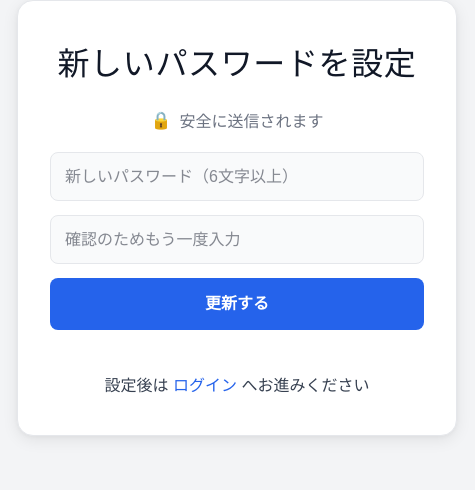
ResetPasswordForm › 以前と同じパスワードだと、日本語の案内を出す（失敗の経路）
The image size is (475, 490).
Check: the button "更新する" is enabled, box 50,278 -> 424,330
Type "abcdef" into the password field labelled "新しいパスワード".
click(237, 176); type("abcdef")  # box 50,152 -> 424,201
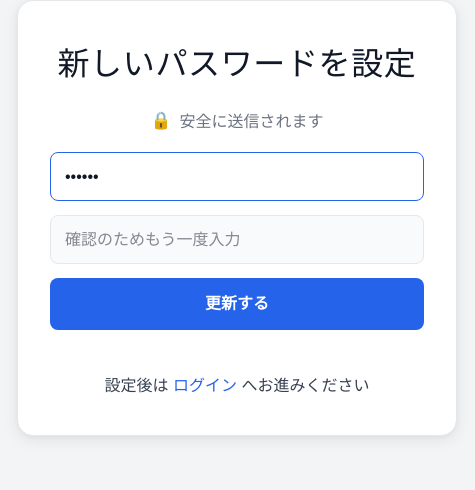
Type "abcdef" into the password field named "新しいパスワード（確認）".
click(237, 240); type("abcdef")  # box 50,215 -> 424,264
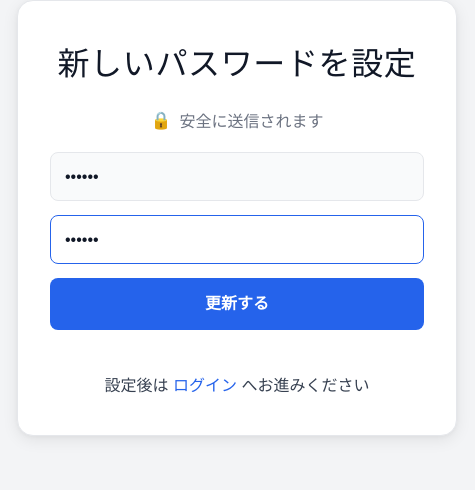
Click the button "更新する".
click(237, 304)  # box 50,278 -> 424,330
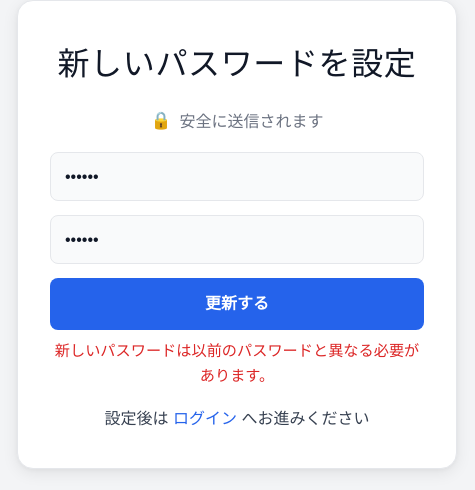
Check: the text "新しいパスワードは以前のパスワードと異なる必要があります。" is shown, box 50,338 -> 424,389
